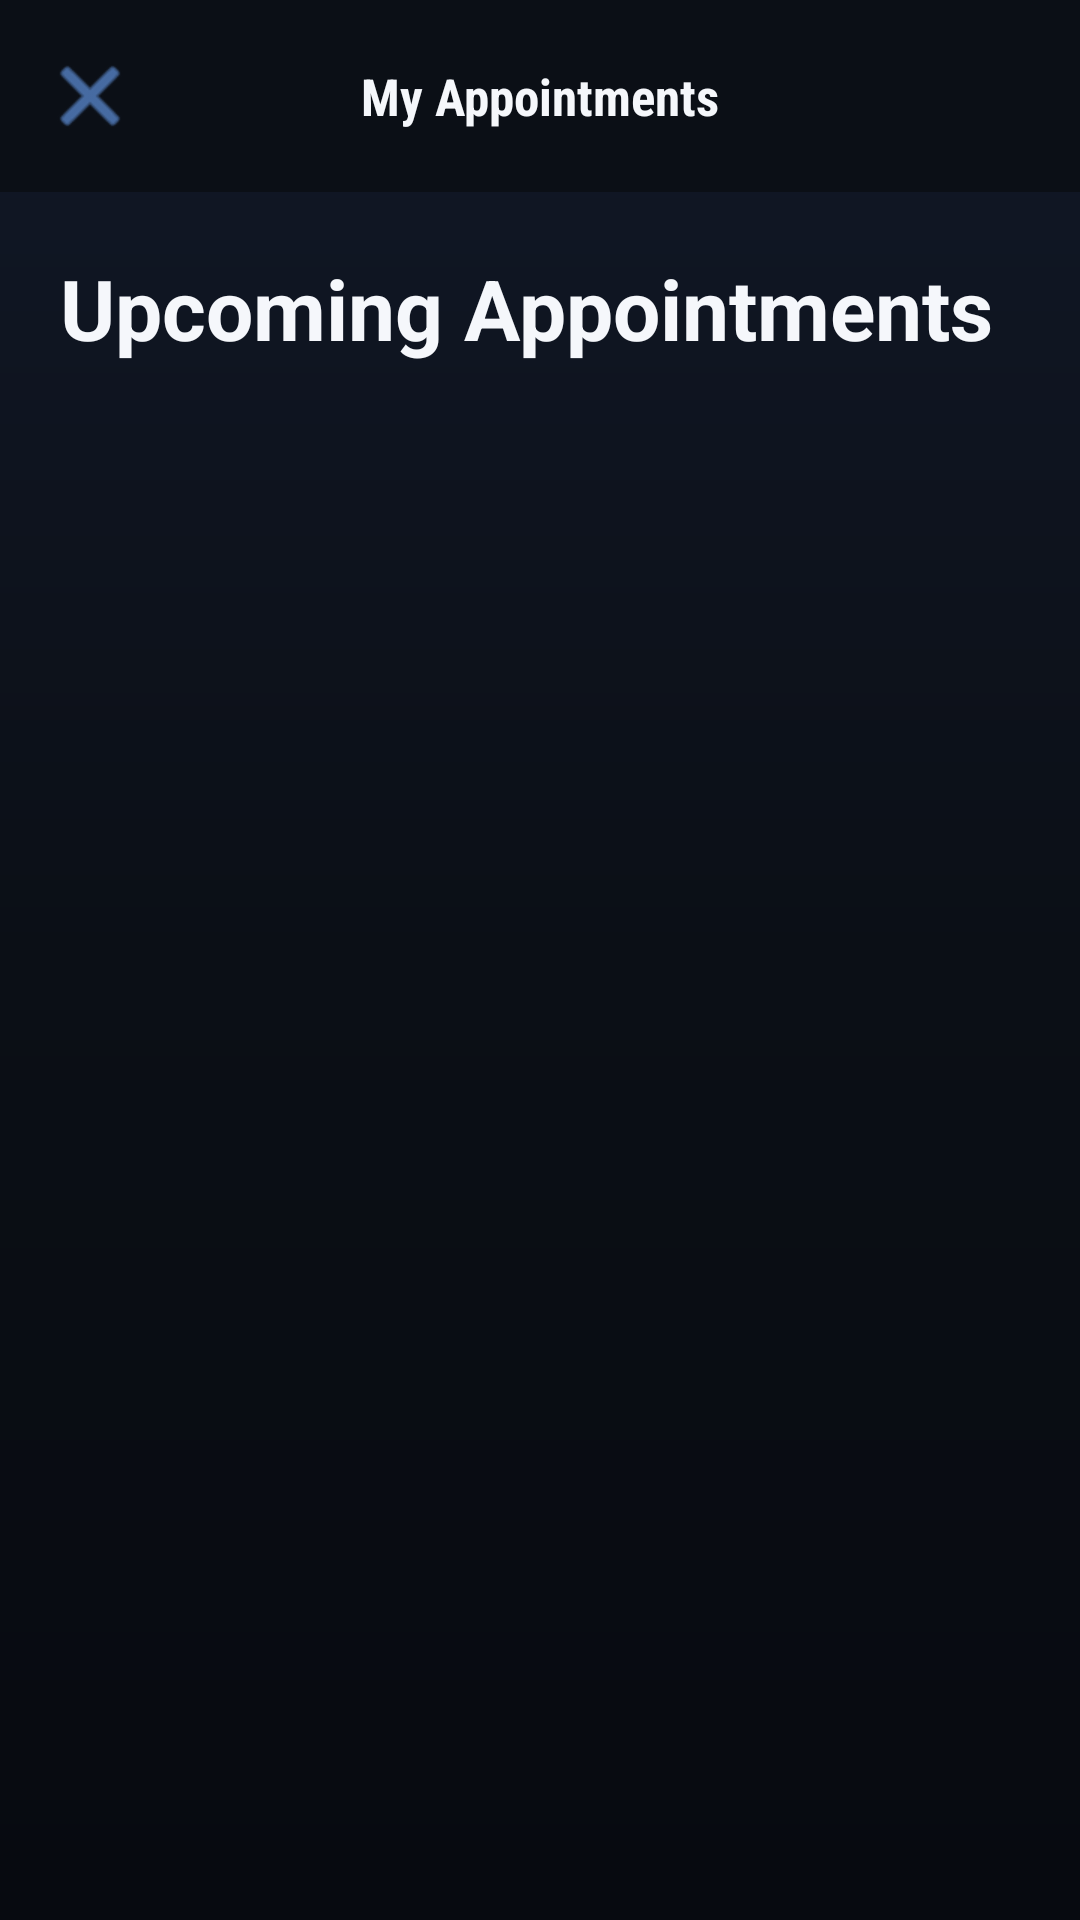

Icon click points for this 1080x1920 phone screenshot, format point (x, y):
close clear cancel: point (90, 96)
